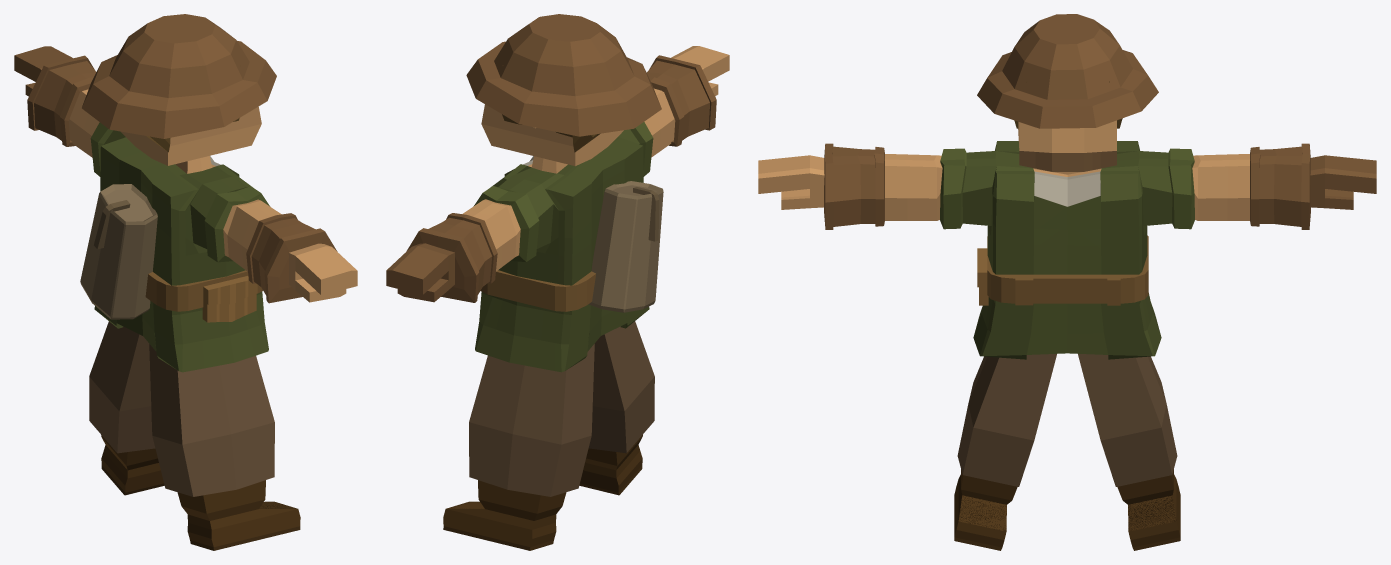
The model's file is Fisher.fbx.
3 renders of one model, left to right at view 1: azimuth 30°, elevation 25°; view 2: azimuth 150°, elevation 25°; view 3: azimuth 270°, elevation 25°, orthographic.
Visible parts, largest first — view 1: Cube.008, Cube.001, Circle, Cube.003, Cube.009, Cube.005, Cube.007, Cube, Cube.002, Cube.006, Cube.010; view 2: Cube.008, Cube.001, Circle, Cube.003, Cube.009, Cube.005, Cube.006, Cube.002, Cube.007, Cube.010; view 3: Cube.001, Cube.008, Circle, Cube.003, Cube.002, Cube.005, Cube.006, Cube.007.
Part boxes in pixels (bbox=[...]): Cube.008: bbox=[89, 321, 300, 550]; Cube.001: bbox=[68, 89, 281, 372]; Circle: bbox=[82, 14, 276, 138]; Cube.003: bbox=[27, 55, 337, 303]; Cube.009: bbox=[80, 184, 157, 319]; Cube.005: bbox=[121, 65, 261, 165]; Cube.007: bbox=[288, 243, 357, 302]; Cube: bbox=[202, 276, 257, 322]; Cube.002: bbox=[145, 270, 262, 311]; Cube.006: bbox=[14, 46, 72, 96]; Cube.010: bbox=[94, 200, 130, 249]; Cube.008: bbox=[443, 321, 654, 550]; Cube.001: bbox=[462, 88, 675, 372]; Circle: bbox=[466, 14, 661, 136]; Cube.003: bbox=[406, 55, 716, 302]; Cube.009: bbox=[588, 181, 663, 312]; Cube.005: bbox=[481, 66, 623, 166]; Cube.006: bbox=[386, 243, 454, 302]; Cube.002: bbox=[480, 270, 595, 311]; Cube.007: bbox=[671, 46, 729, 96]; Cube.010: bbox=[633, 187, 659, 241]; Cube.001: bbox=[885, 141, 1249, 359]; Cube.008: bbox=[954, 354, 1180, 550]; Circle: bbox=[977, 14, 1158, 128]; Cube.003: bbox=[824, 143, 1310, 229]; Cube.002: bbox=[987, 235, 1148, 305]; Cube.005: bbox=[1014, 81, 1122, 171]; Cube.006: bbox=[1310, 155, 1376, 209]; Cube.007: bbox=[758, 155, 824, 209].
Bounding box in the file's own units: 67.68 × 183 × 209.
